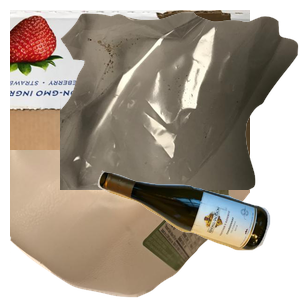cardboard: (10, 10, 250, 190)
glass: (95, 168, 300, 300)
plastic: (10, 150, 250, 300)
trash: (60, 10, 300, 190)
